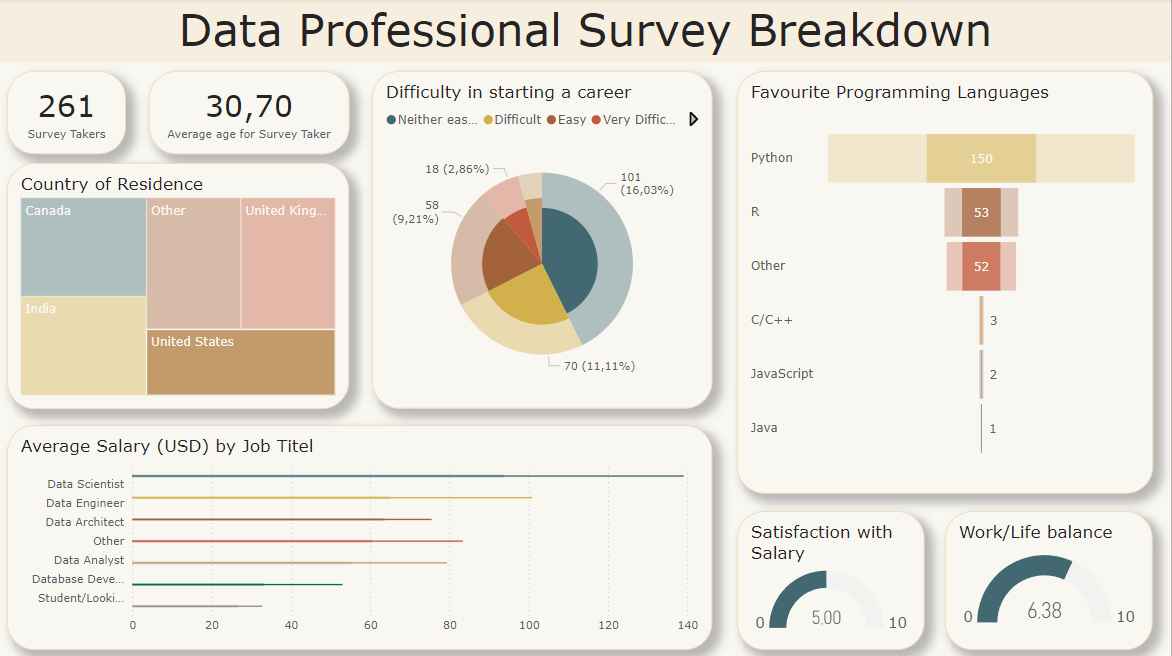

The page's visual inventory and layout, read from the dashboard file:
{"tool":"powerbi","page":{"name":"Side 1","canvas":[1280,720],"ordinal":0},"visuals":[{"type":"textbox","box":[0,0,1280,70],"z":0},{"type":"card","fields":{"Values":["Count(Data Professional Survey.Unique ID)"]},"box":[7.7,79.8,130.1,90.7],"z":1000},{"type":"card","fields":{"Values":["Avg(Data Professional Survey.Q10 - Current Age)"]},"box":[162.9,79.8,218.6,90.7],"z":2000},{"type":"clusteredBarChart","title":"Average Salary (USD) by Job Titel","fields":{"Category":["Data Professional Survey.Q1 - Which Title Best Fits your Current Role?.1"],"Y":["Avg(Data Professional Survey.Average Salary)"],"Series":["Data Professional Survey.Q1 - Which Title Best Fits your Current Role?.1"]},"box":[7.7,466.7,770.6,245.9],"z":3000},{"type":"funnel","title":"Favourite Programming Languages","fields":{"Category":["Data Professional Survey.Q5 - Favorite Programming Language.1.1.1","Data Professional Survey.Q1 - Which Title Best Fits your Current Role?.1"],"Y":["CountNonNull(Data Professional Survey.Unique ID)"]},"box":[805.6,79.8,454.7,462.4],"z":4000},{"type":"treemap","title":"Country of Residence","fields":{"Group":["Data Professional Survey.Q11 - Which Country do you live in?.1"],"Values":["Count(Data Professional Survey.Q11 - Which Country do you live in?.1)"]},"box":[7.7,180.4,373.8,268.9],"z":5000},{"type":"gauge","title":"Work/Life balance","fields":{"Y":["Avg(Data Professional Survey.Q6 - How Happy are you in your Current Position with the following? (Work/Life Balance))"],"MinValue":["Min(Data Professional Survey.Q6 - How Happy are you in your Current Position with the following? (Work/Life Balance))1"],"MaxValue":["Max(Data Professional Survey.Q6 - How Happy are you in your Current Position with the following? (Work/Life Balance))2"]},"box":[1033,560.8,227.4,151.9],"z":6000},{"type":"gauge","title":"Satisfaction with Salary","fields":{"Y":["Avg(Data Professional Survey.Q6 - How Happy are you in your Current Position with the following? (Salary))"],"MinValue":["Min(Data Professional Survey.Q6 - How Happy are you in your Current Position with the following? (Salary))"],"MaxValue":["Max(Data Professional Survey.Q6 - How Happy are you in your Current Position with the following? (Salary))"]},"box":[805.6,560.8,205.5,151.9],"z":7000},{"type":"pieChart","title":"Difficulty in starting a career","fields":{"Y":["CountNonNull(Data Professional Survey.Q7 - How difficult was it for you to break into Data?)"],"Category":["Data Professional Survey.Q7 - How difficult was it for you to break into Data?"]},"box":[406.6,79.8,371.6,369.5],"z":8000}]}

Visuals, with their boxes in screenshot pixels (x1, y1, x2, y2), scaled from the page's 1280x720 canvas onto the 1172x656 screenshot:
textbox: (0,0,1171,64)
card - Count(Data Professional Survey.Unique ID): (7,73,126,155)
card - Avg(Data Professional Survey.Q10 - Current Age): (149,73,349,155)
"Average Salary (USD) by Job Titel" clusteredBarChart: (7,425,713,649)
"Favourite Programming Languages" funnel: (738,73,1154,494)
"Country of Residence" treemap: (7,164,349,409)
"Work/Life balance" gauge: (946,511,1154,649)
"Satisfaction with Salary" gauge: (738,511,926,649)
"Difficulty in starting a career" pieChart: (372,73,713,409)
